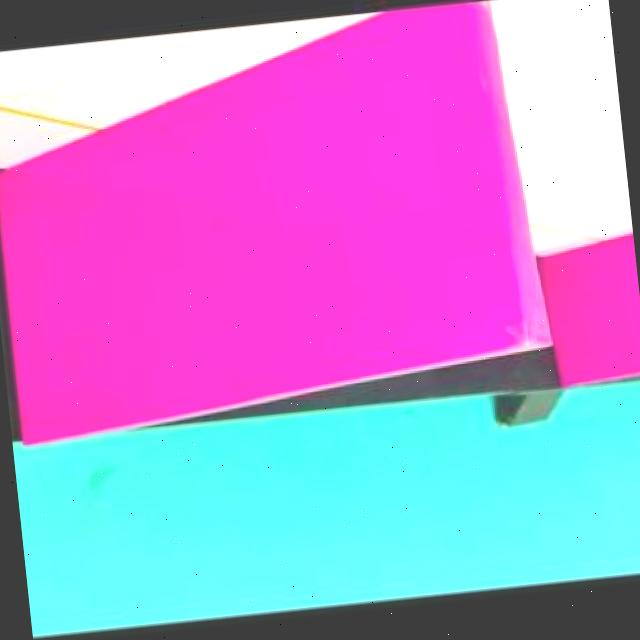xparking: (1, 10, 516, 382), (563, 235, 640, 369)
